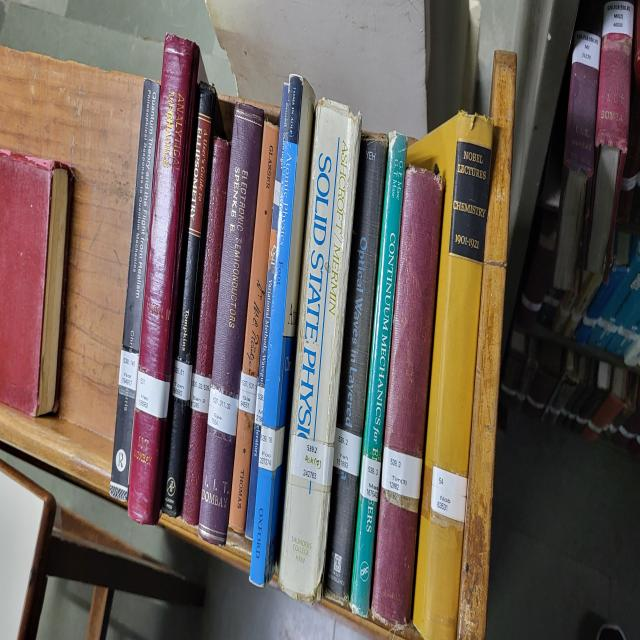Book: (408, 111, 492, 639), (279, 100, 361, 601), (129, 35, 199, 525), (458, 51, 516, 639), (371, 165, 444, 625), (250, 76, 315, 584), (324, 133, 388, 603), (199, 103, 264, 544), (350, 133, 408, 617), (161, 81, 216, 517), (110, 78, 160, 501), (229, 122, 279, 533), (181, 138, 230, 525)
Label: (288, 426, 334, 497), (380, 442, 422, 513), (433, 449, 469, 528), (332, 416, 364, 486), (208, 384, 238, 438), (138, 365, 165, 423), (357, 449, 379, 513), (258, 422, 280, 476), (171, 353, 191, 408), (190, 371, 212, 421), (236, 375, 258, 416), (120, 345, 138, 395)
